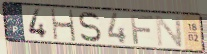4: (106, 11, 130, 46), (27, 7, 49, 41)
F: (129, 14, 155, 46)
H: (49, 8, 78, 44)
N: (154, 14, 185, 48)
S: (77, 11, 103, 44)
